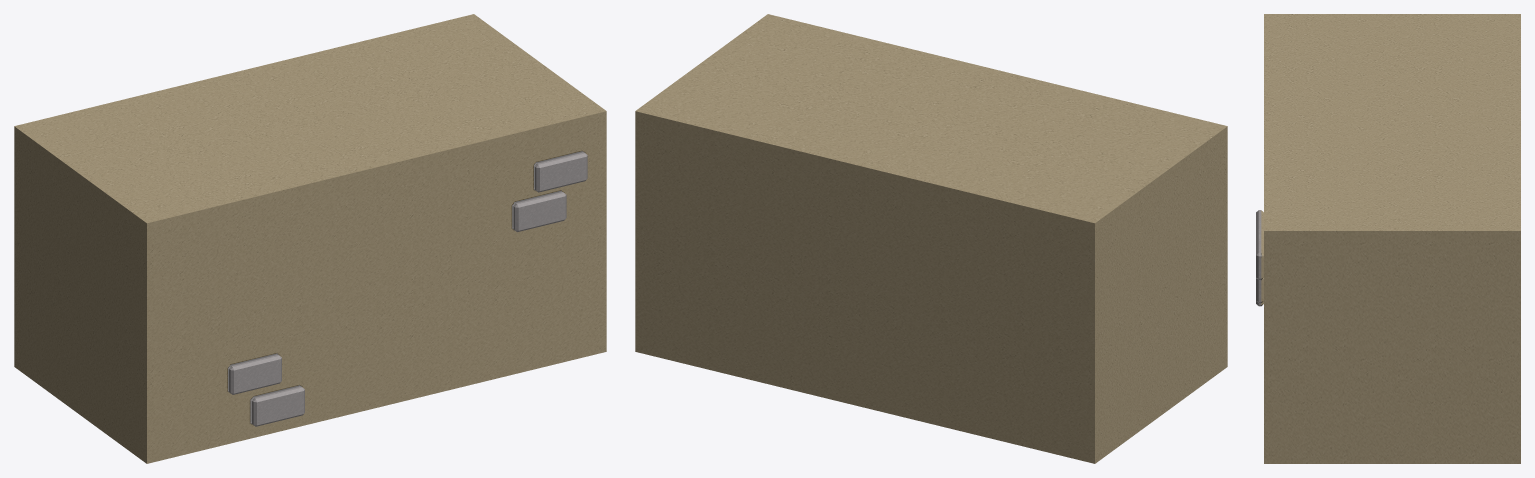
Rendered from wall2_LOD0.fbx.
3 renders of one model, left to right at view 1: azimuth 30°, elevation 25°; view 2: azimuth 150°, elevation 25°; view 3: azimuth 270°, elevation 25°, orthographic. The views are drawn at different scales.
Parts seen in each view (by area): view 1: wall2_LOD0; view 2: wall2_LOD0; view 3: wall2_LOD0.
Part boxes in pixels (x1,y1,x2,y2): wall2_LOD0: (14,14,606,463); wall2_LOD0: (635,14,1227,463); wall2_LOD0: (1256,14,1520,463).
Bounding box in the file's own units: 400 × 200 × 206.
